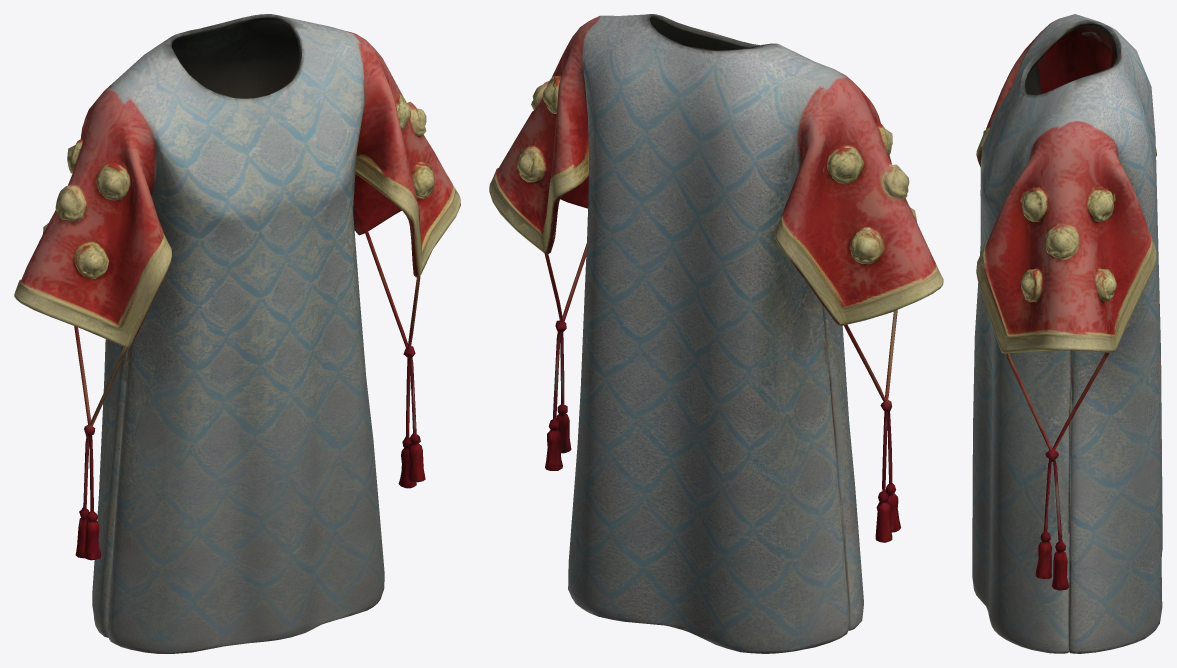
Rendered from Vestimenta.glb.
The picture shows the model from 3 angles, left to right: view 1: azimuth 30°, elevation 25°; view 2: azimuth 150°, elevation 25°; view 3: azimuth 270°, elevation 25°; orthographic projection. The views are drawn at different scales.
Parts seen in each view (by area): view 1: Vestimenta; view 2: Vestimenta; view 3: Vestimenta.
Part boxes in pixels (<box>): Vestimenta: <box>14,14,460,653</box>; Vestimenta: <box>489,14,943,653</box>; Vestimenta: <box>972,14,1162,653</box>.
Bounding box in the file's own units: 0.8709 × 1.08 × 0.3425.
Materials: 1 (1 with a texture image).
